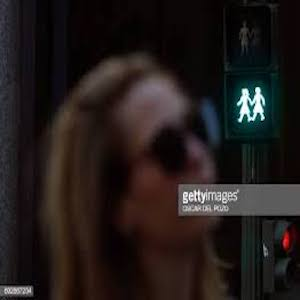green: (230, 85, 267, 125)
